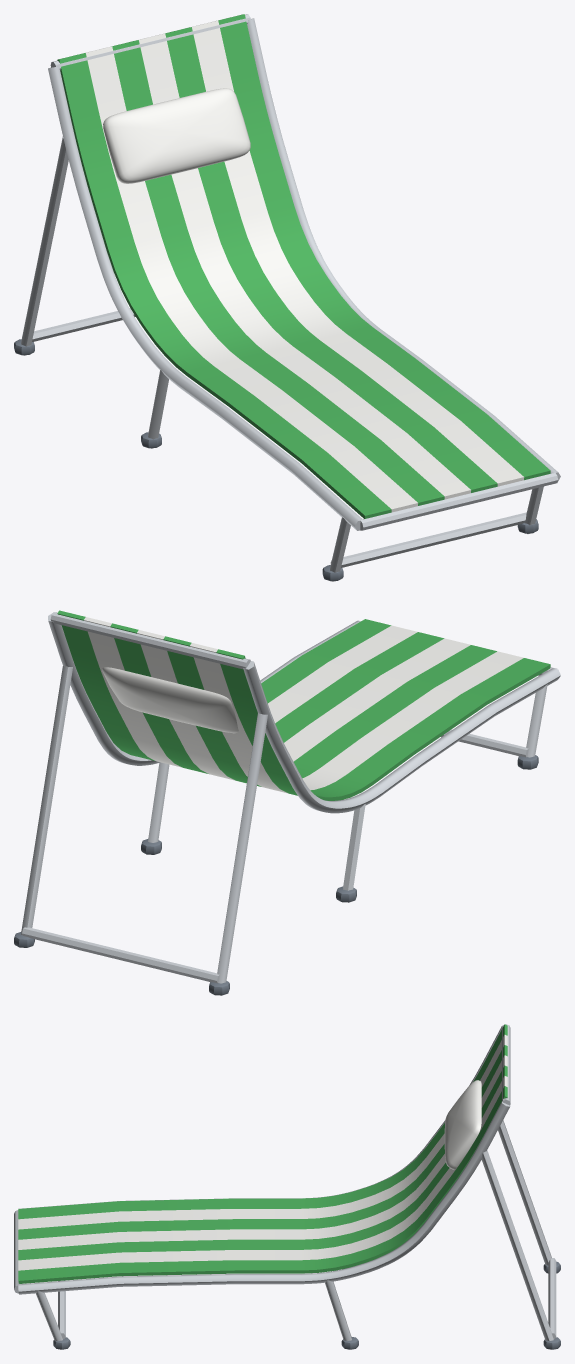
The model's file is espreguicadeira_lona.glb.
The picture shows the model from 3 angles, top to bottom: view 1: azimuth 30°, elevation 25°; view 2: azimuth 150°, elevation 25°; view 3: azimuth 270°, elevation 25°; orthographic projection. The views are drawn at different scales.
Parts seen in each view (by area): view 1: espreguicadeira_lona; view 2: espreguicadeira_lona; view 3: espreguicadeira_lona.
Part boxes in pixels (left/top/right/bottom): espreguicadeira_lona: left=14, top=14, right=560, bottom=581; espreguicadeira_lona: left=14, top=610, right=560, bottom=995; espreguicadeira_lona: left=14, top=1024, right=560, bottom=1349.
Bounding box in the file's own units: 0.68 × 0.9573 × 1.9.
1 material, 1 textured.
